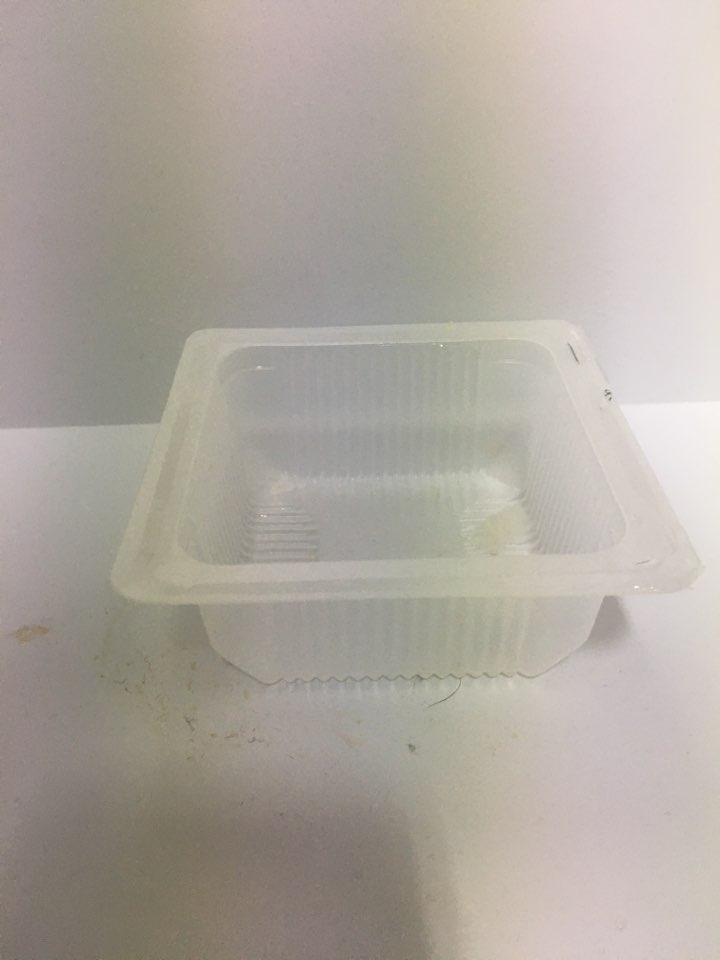bottle: (383, 296, 428, 703)
